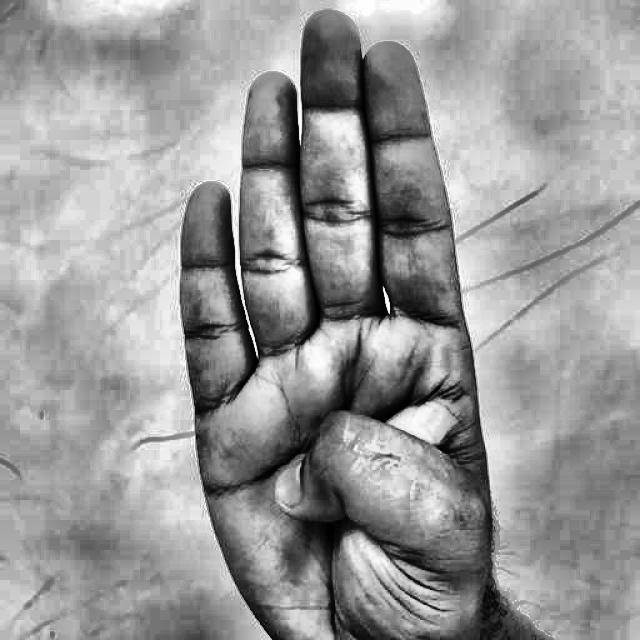Ba: (165, 1, 523, 640)
